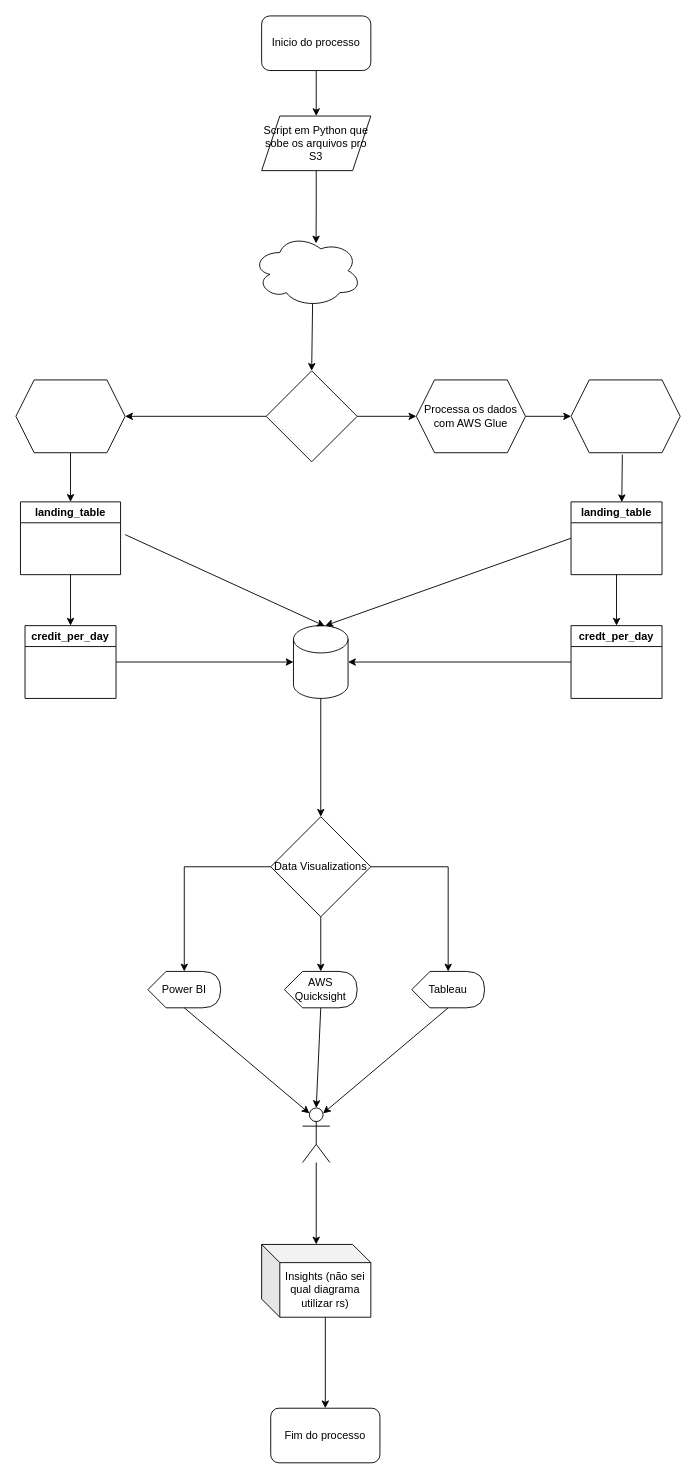
Image size: 696x1479. Some labels were removed from this diagram. The shapes that lost their labels are listed below. From the top down, each one's centre as x and y in pixels, then its label:
(x=307, y=270): Bucket S3 (AWS)
(x=70, y=416): Processa e trata os dados via Pentaho Data Integration (ETL com PDI)
(x=311, y=416): Caminhos a seguir:
(x=625, y=416): Faz o tratamento, catalogação e transformação dos dados (ETL)
(x=320, y=661): AWS Redshift
(x=316, y=1135): Analista
